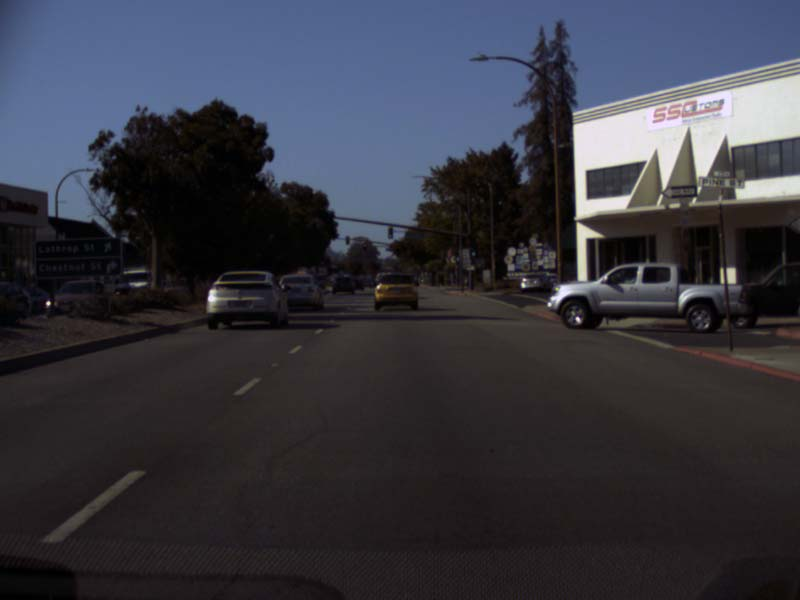Green: (470, 244, 475, 257), (387, 226, 392, 238), (455, 252, 459, 261)
Red: (362, 243, 367, 251)
